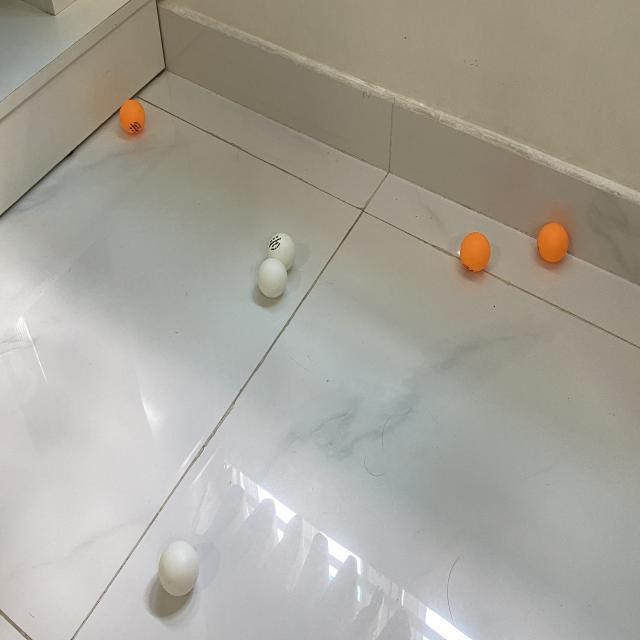ping-pong-ball: (160, 541, 200, 596), (538, 222, 570, 266), (461, 230, 492, 274), (266, 230, 296, 274), (258, 258, 288, 298), (120, 99, 144, 135)
